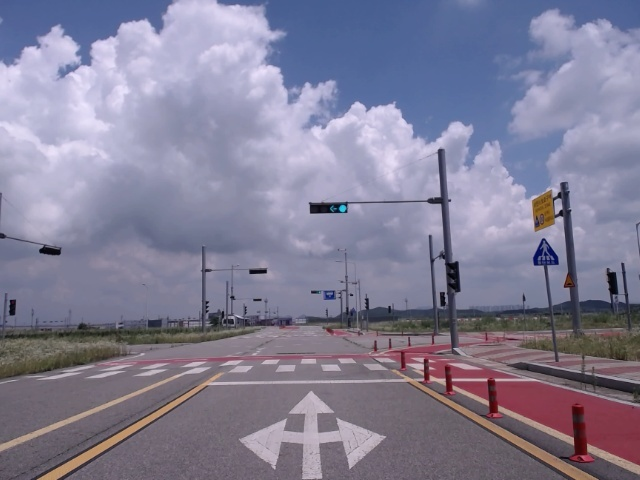all_green_4: (312, 201, 347, 213)
